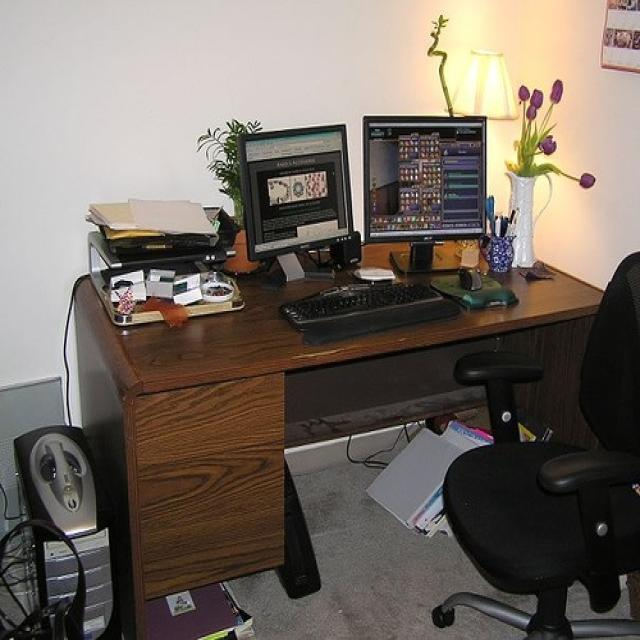chair: (436, 251, 638, 638)
pottedplant: (202, 117, 265, 270)
tvmonitor: (365, 114, 489, 277), (238, 122, 353, 284)
